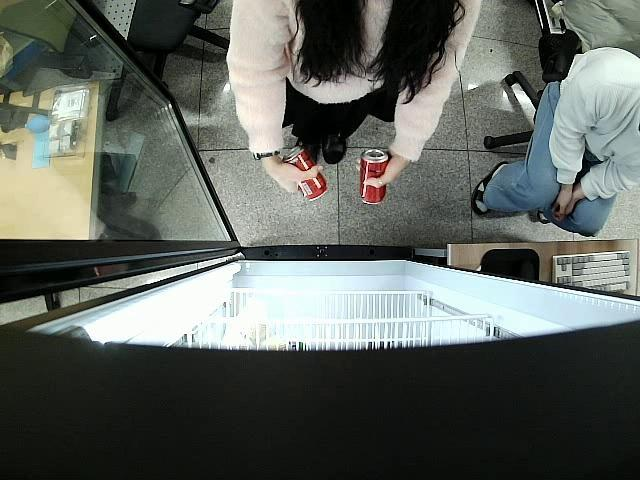11_cocaColaZero: (284, 147, 329, 200), (360, 148, 388, 206)
